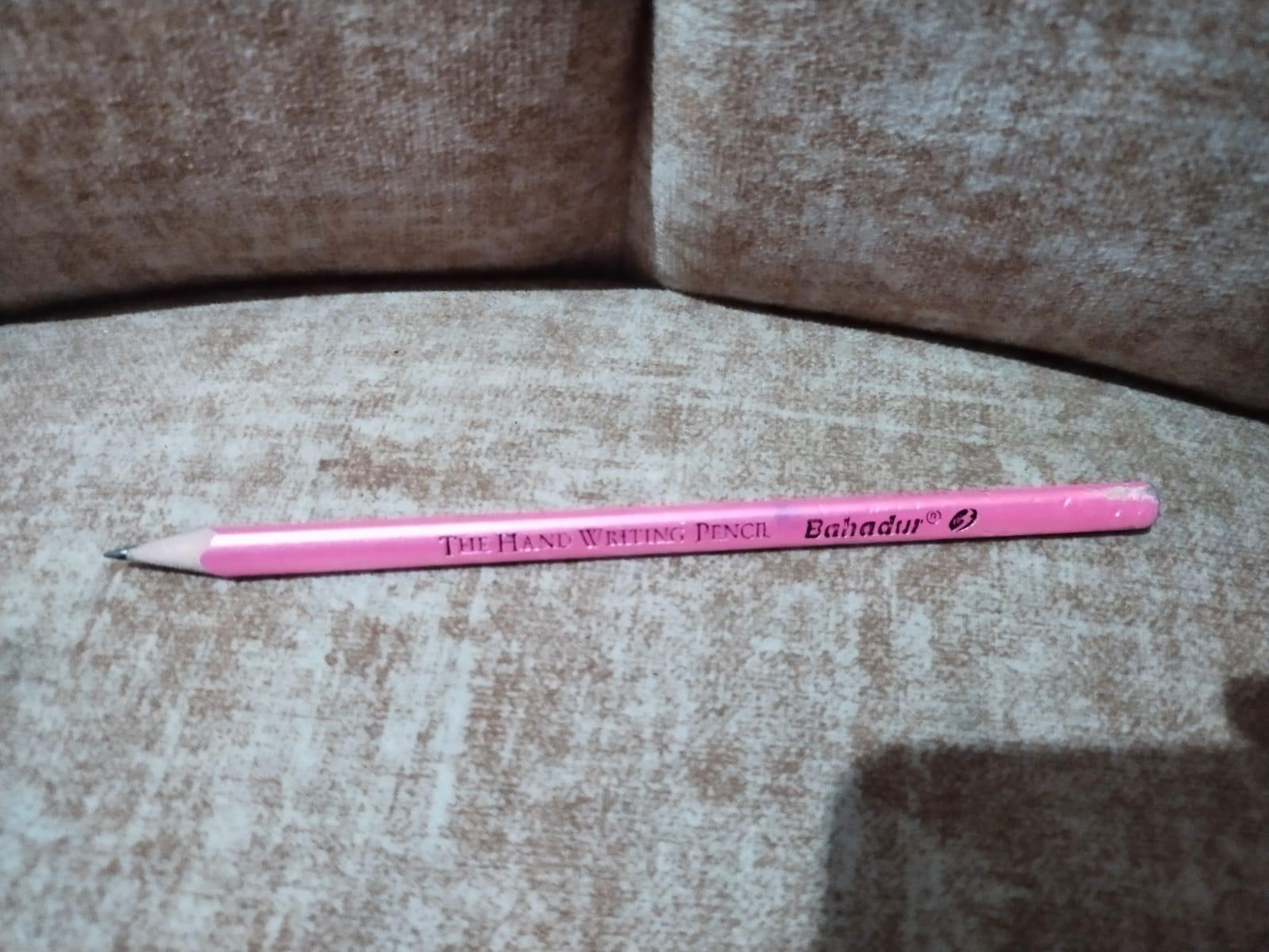pencil: (107, 481, 1158, 578)
